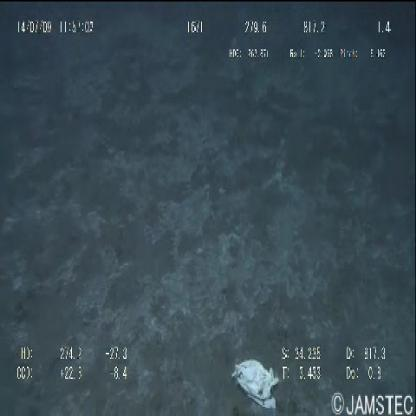Rác: (233, 360, 280, 410)
